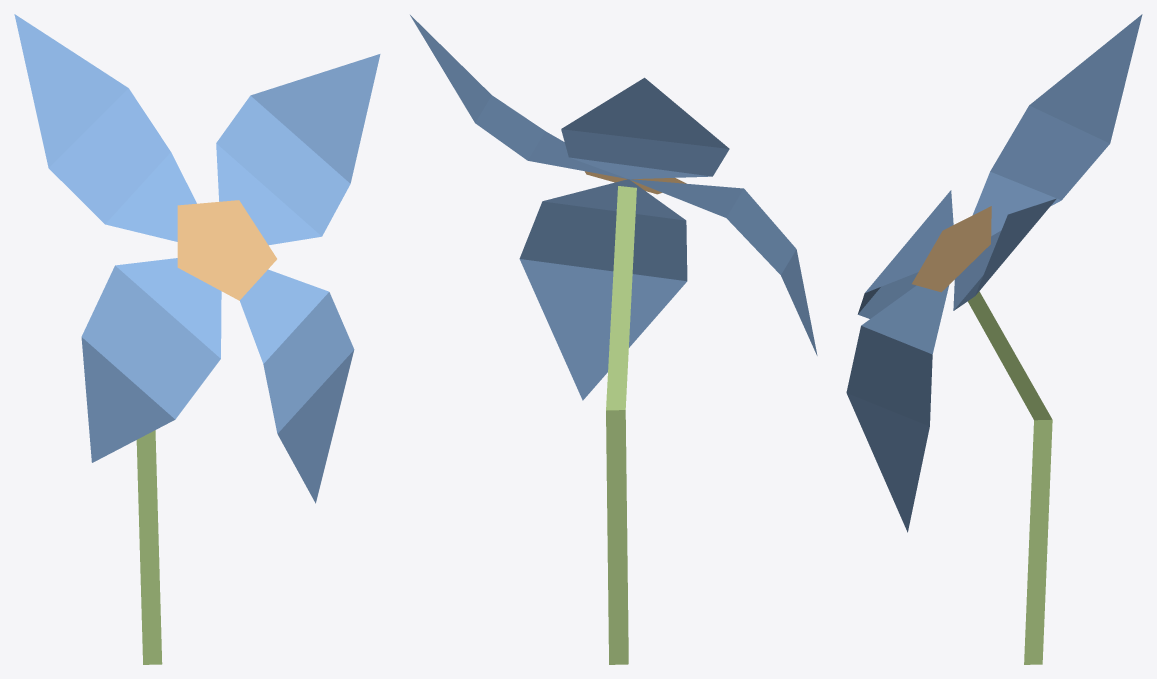
File: Flower_a_TwoS_06.fbx
3 renders of one model, left to right at view 1: azimuth 30°, elevation 25°; view 2: azimuth 150°, elevation 25°; view 3: azimuth 270°, elevation 25°, orthographic. The views are drawn at different scales.
Visible parts, largest first — view 1: Flower_a_TwoS_06; view 2: Flower_a_TwoS_06; view 3: Flower_a_TwoS_06.
Boxes of the visible parts, x1=… form: Flower_a_TwoS_06: x1=14, y1=14, x2=380, y2=664; Flower_a_TwoS_06: x1=410, y1=15, x2=817, y2=664; Flower_a_TwoS_06: x1=846, y1=14, x2=1142, y2=664.
Size of the model in its own units: 35.7 by 62.57 by 27.54.
